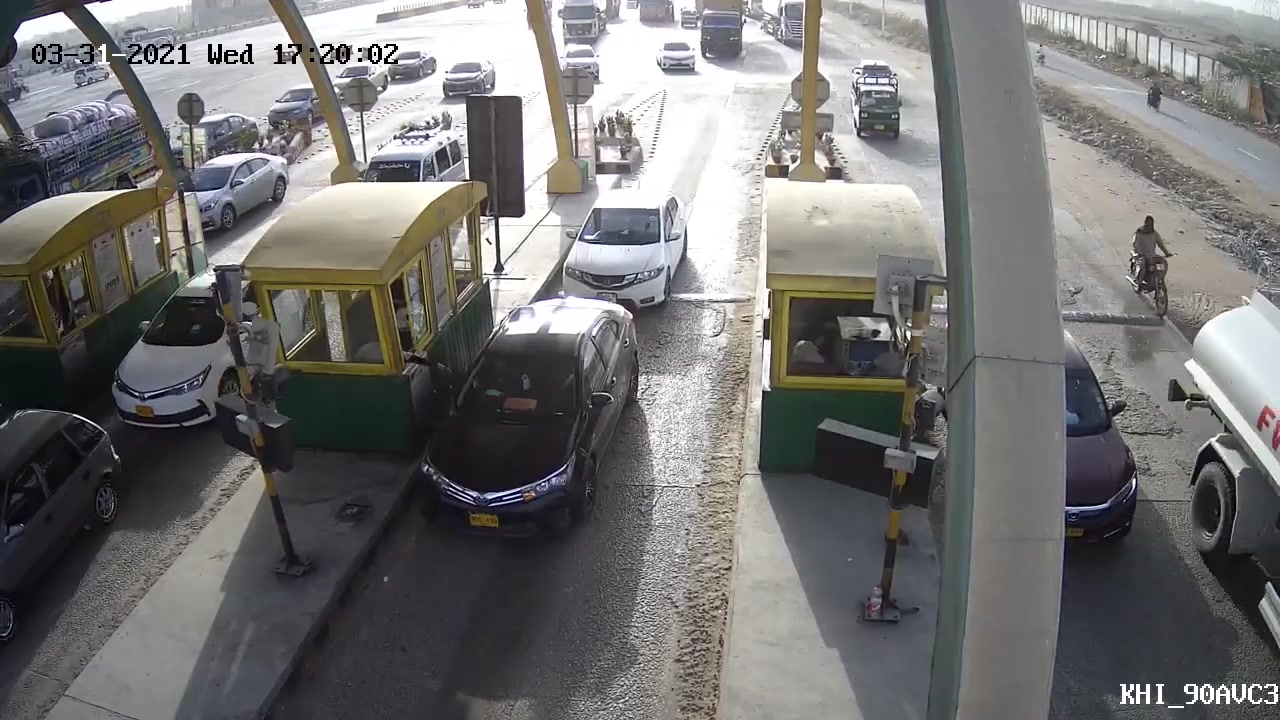F1: (408, 291, 637, 557), (558, 185, 689, 310)
